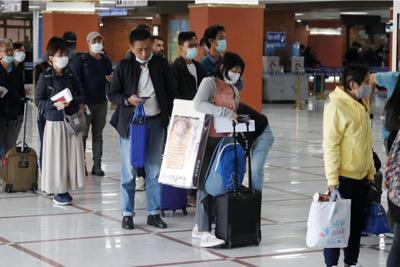mask_weared_incorrect: (134, 43, 151, 65), (0, 46, 13, 65)
with_mask: (356, 76, 372, 101), (182, 39, 198, 61), (224, 66, 241, 86), (88, 39, 104, 56), (54, 51, 68, 69), (214, 34, 226, 53), (12, 48, 25, 63)
without_mask: (151, 41, 165, 57)
